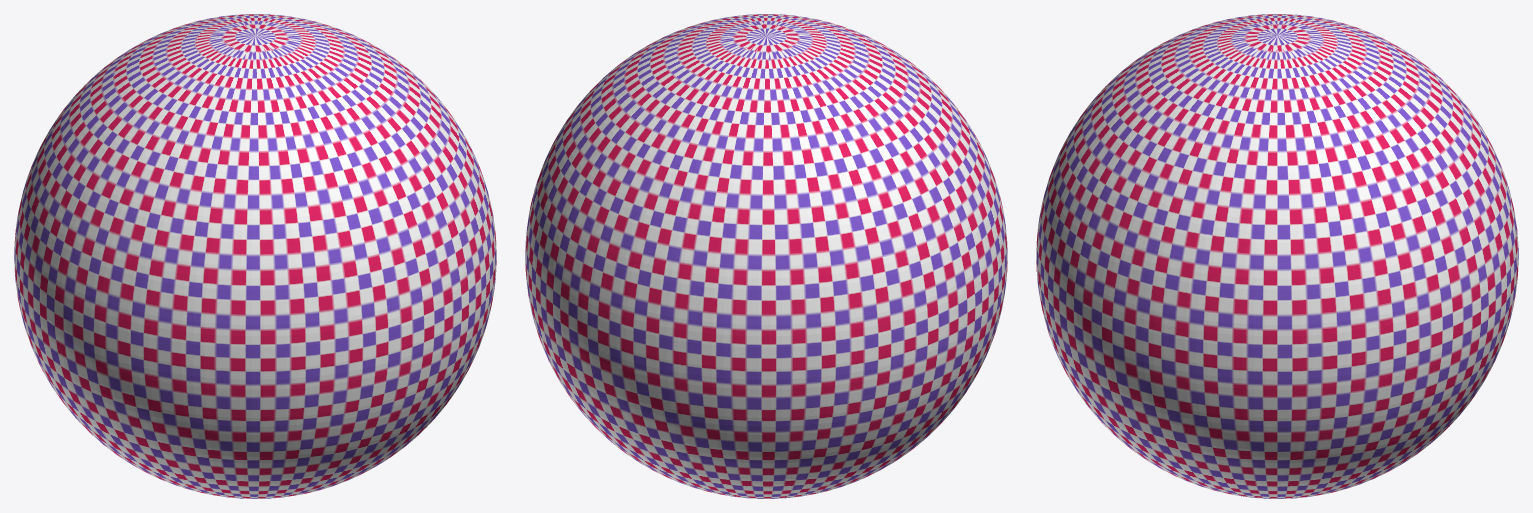
Rendered from VRSphereUV.obj.
3 renders of one model, left to right at view 1: azimuth 30°, elevation 25°; view 2: azimuth 150°, elevation 25°; view 3: azimuth 270°, elevation 25°, orthographic.
Visible parts, largest first — view 1: Sphere; view 2: Sphere; view 3: Sphere.
Part boxes in pixels (left/top/right/bottom): Sphere: left=14, top=14, right=496, bottom=498; Sphere: left=525, top=14, right=1007, bottom=498; Sphere: left=1036, top=14, right=1518, bottom=498.
Bounding box in the file's own units: 9.87 × 9.98 × 9.87.
1 material, 1 textured.
